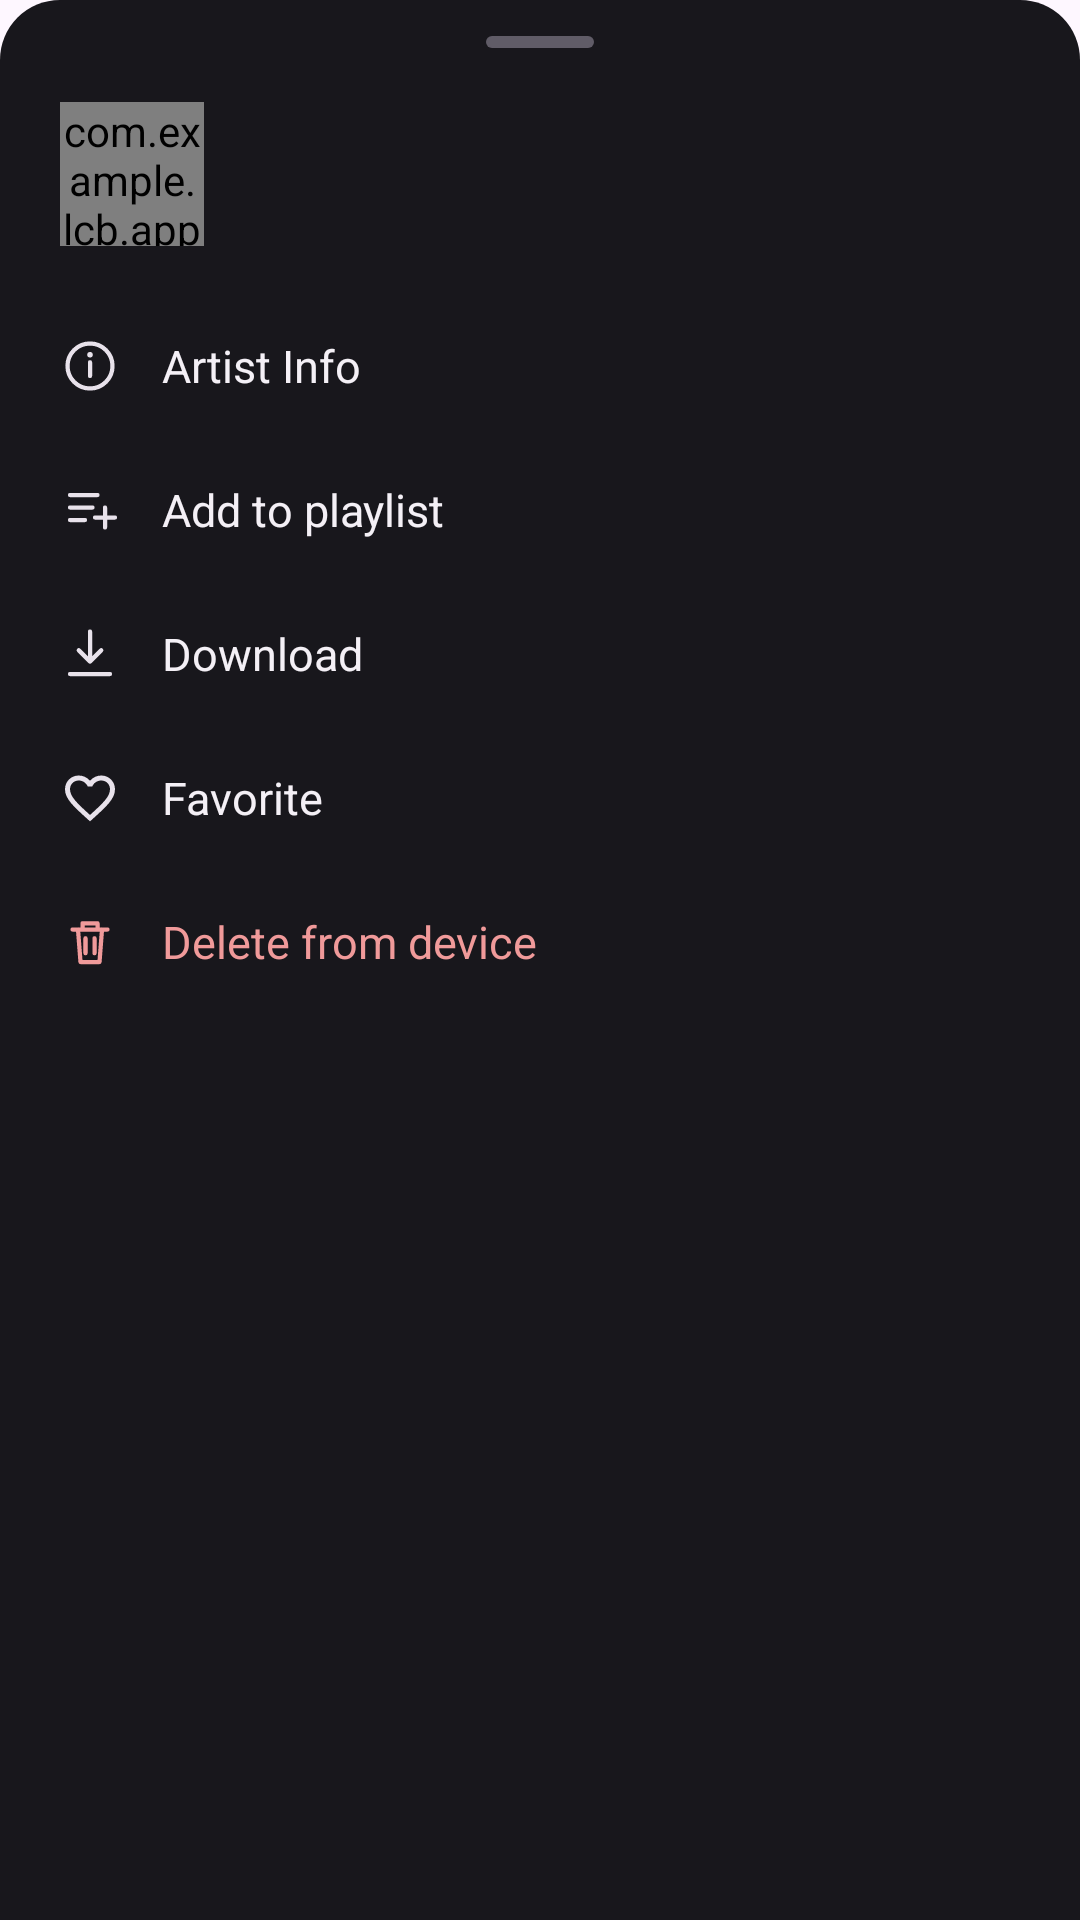

Named icons in this screenshot (1080x1920) and their centers, (x,y):
track action add playlist: (92,511)
track action delete: (90,943)
track action song info: (90,366)
